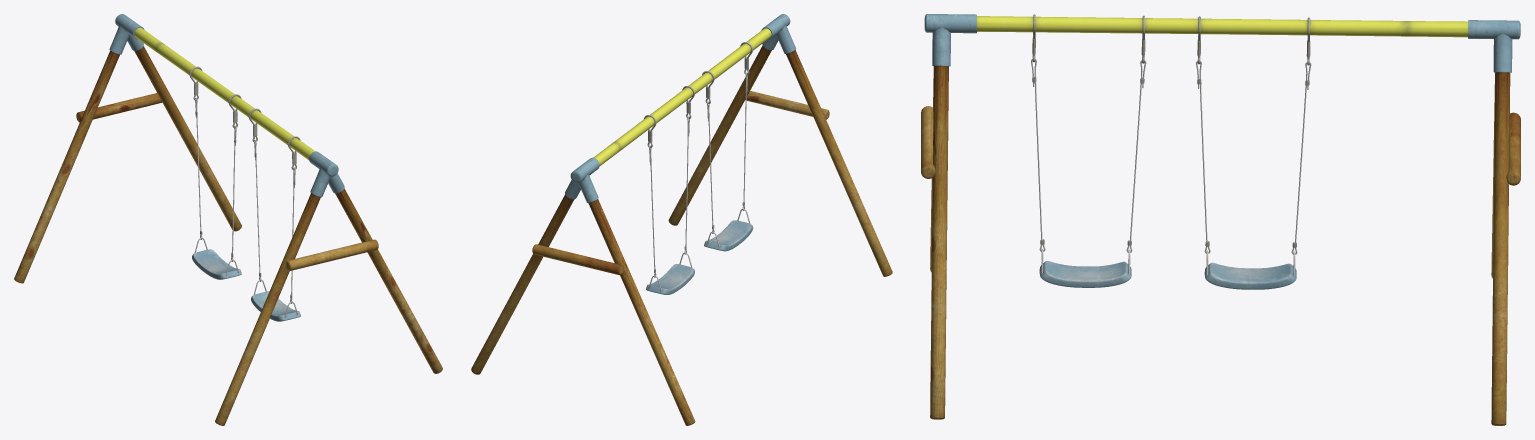
The model's file is w_playground_swing.glb.
3 renders of one model, left to right at view 1: azimuth 30°, elevation 25°; view 2: azimuth 150°, elevation 25°; view 3: azimuth 270°, elevation 25°, orthographic. The views are drawn at different scales.
Visible parts, largest first — view 1: 10549_ChildrenSwingSet_v1-LoD2; view 2: 10549_ChildrenSwingSet_v1-LoD2; view 3: 10549_ChildrenSwingSet_v1-LoD2.
Boxes of the visible parts, <box> form: 10549_ChildrenSwingSet_v1-LoD2: <box>14,14,442,425</box>; 10549_ChildrenSwingSet_v1-LoD2: <box>471,14,892,425</box>; 10549_ChildrenSwingSet_v1-LoD2: <box>921,14,1520,425</box>.
Size of the model in its own units: 2.3 by 2.35 by 3.78.
Materials: 1 (1 with a texture image).
